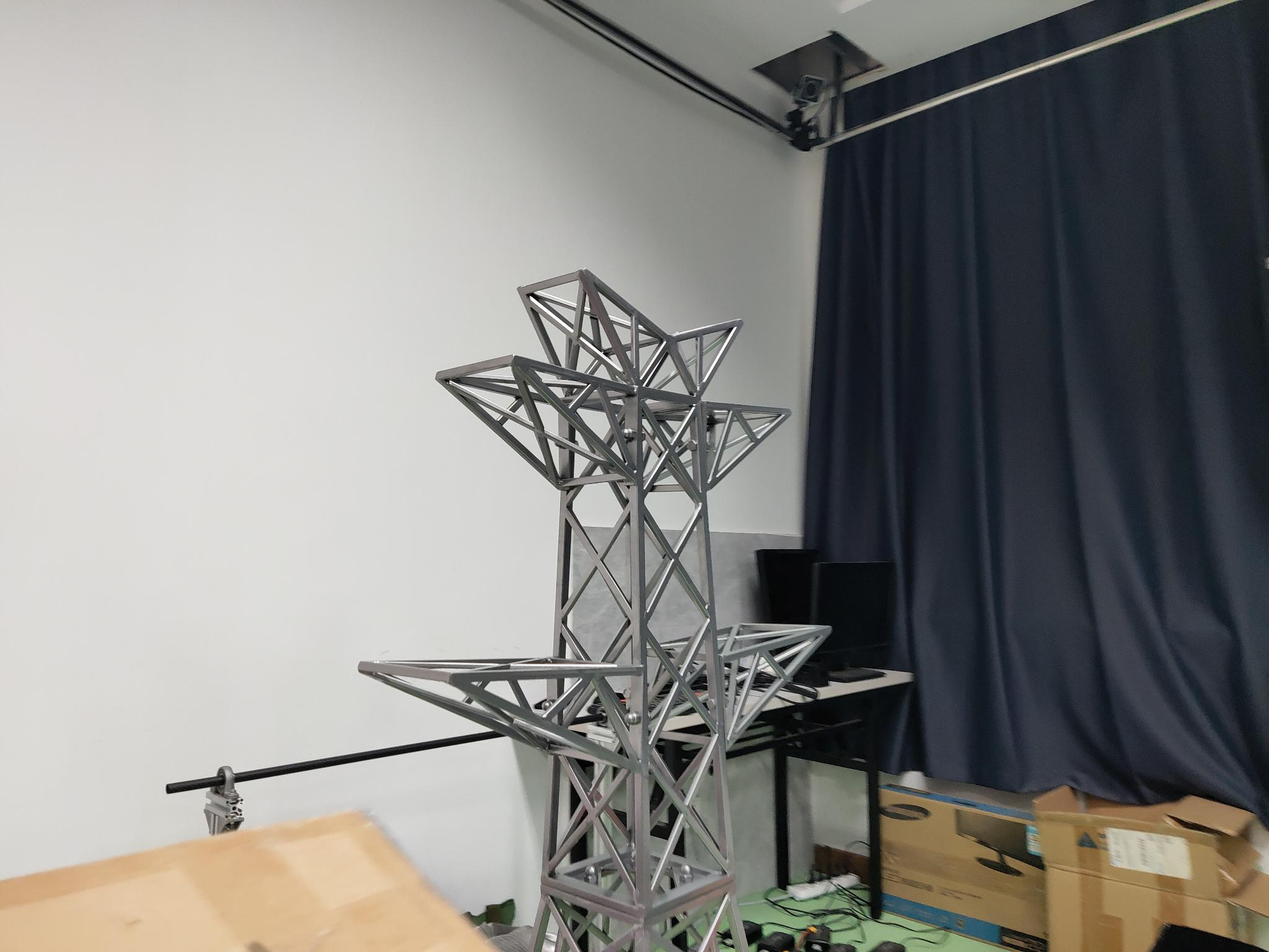tower: (349, 267, 844, 952)
